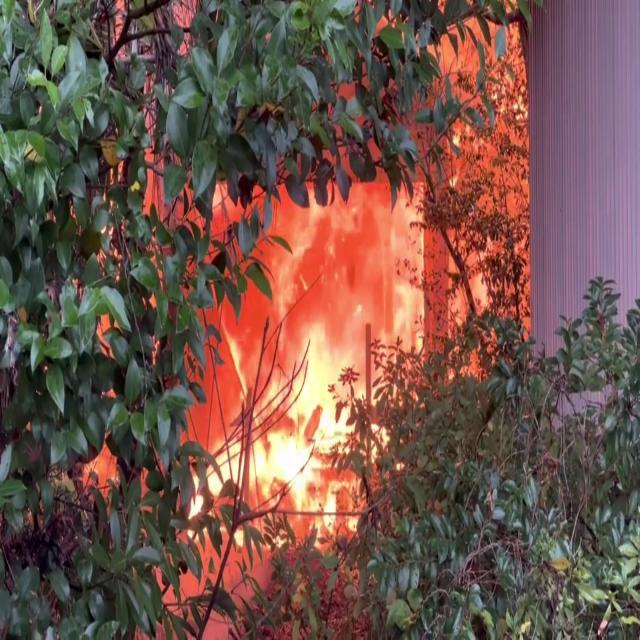Fire: (200, 348, 384, 534)
